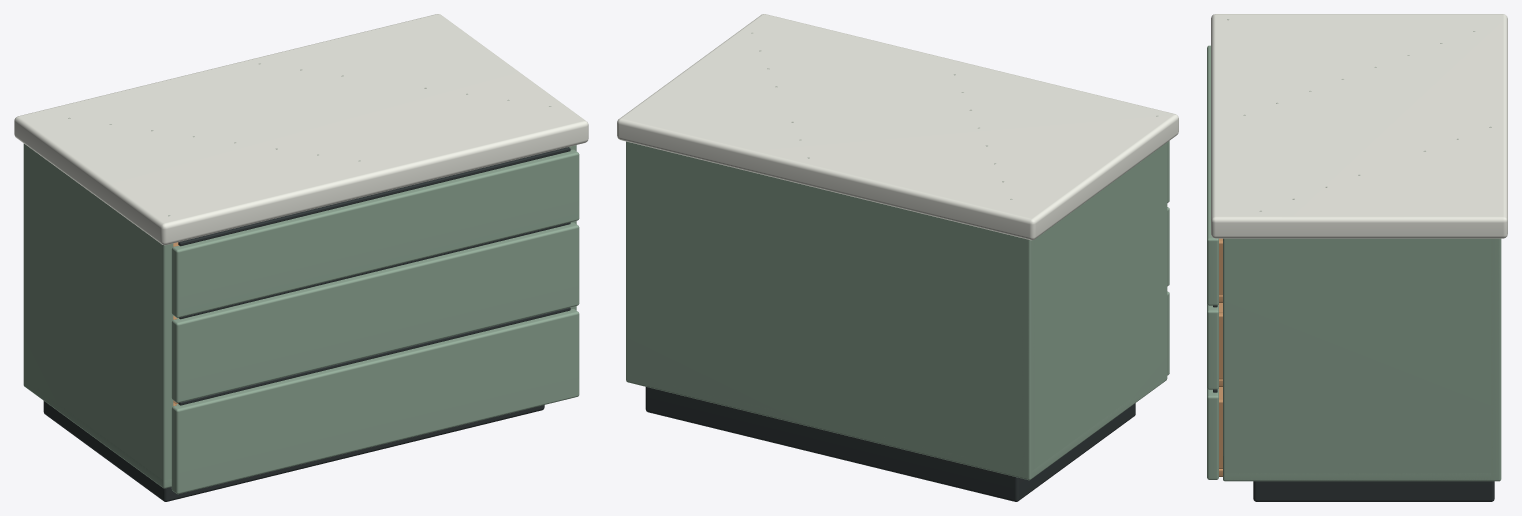
The model's file is kitchenModernCounterSage.glb.
3 views of the same model, side by side, from view 1: azimuth 30°, elevation 25°; view 2: azimuth 150°, elevation 25°; view 3: azimuth 270°, elevation 25° (orthographic). The views are drawn at different scales.
Parts seen in each view (by area): view 1: Thick stone worktop, Handleless kitchen drawer.002, Storage inner side, Handleless kitchen drawer.001, Handleless kitchen drawer, Recessed kitchen plinth, Recessed drawer pull, Recessed drawer pull.002, Recessed drawer pull.001, Storage inner floor; view 2: Storage inner back, Thick stone worktop, Storage inner side, Recessed kitchen plinth, Storage inner floor; view 3: Storage inner side.001, Thick stone worktop, Recessed kitchen plinth, Storage inner back, Storage inner floor, Handleless kitchen drawer, Handleless kitchen drawer.002, Handleless kitchen drawer.001.
Boxes of the visible parts, left/top/right/bottom form: Thick stone worktop: left=14, top=14, right=588, bottom=245; Handleless kitchen drawer.002: left=171, top=309, right=579, bottom=494; Storage inner side: left=23, top=143, right=173, bottom=488; Handleless kitchen drawer.001: left=171, top=222, right=579, bottom=402; Handleless kitchen drawer: left=171, top=149, right=579, bottom=317; Recessed kitchen plinth: left=43, top=401, right=544, bottom=501; Recessed drawer pull: left=178, top=147, right=570, bottom=246; Recessed drawer pull.002: left=178, top=307, right=570, bottom=405; Recessed drawer pull.001: left=179, top=222, right=570, bottom=319; Storage inner floor: left=38, top=389, right=178, bottom=488; Storage inner back: left=626, top=142, right=1034, bottom=480; Thick stone worktop: left=617, top=14, right=1178, bottom=240; Storage inner side: left=1023, top=142, right=1167, bottom=479; Recessed kitchen plinth: left=645, top=387, right=1135, bottom=501; Storage inner floor: left=708, top=378, right=1166, bottom=478; Storage inner side.001: left=1223, top=238, right=1501, bottom=481; Thick stone worktop: left=1211, top=14, right=1507, bottom=238; Recessed kitchen plinth: left=1253, top=481, right=1494, bottom=501; Storage inner back: left=1491, top=238, right=1501, bottom=480; Storage inner floor: left=1224, top=473, right=1497, bottom=481; Handleless kitchen drawer: left=1207, top=45, right=1218, bottom=305; Handleless kitchen drawer.002: left=1207, top=388, right=1218, bottom=479; Handleless kitchen drawer.001: left=1207, top=304, right=1218, bottom=389.
Size of the model in its own units: 1.84 by 1.23 by 1.13.
